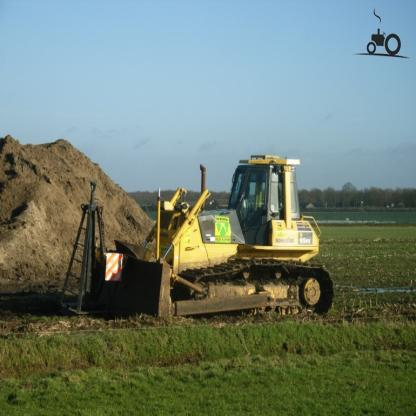bull_dozer/loader/grader: (97, 113, 340, 329)
